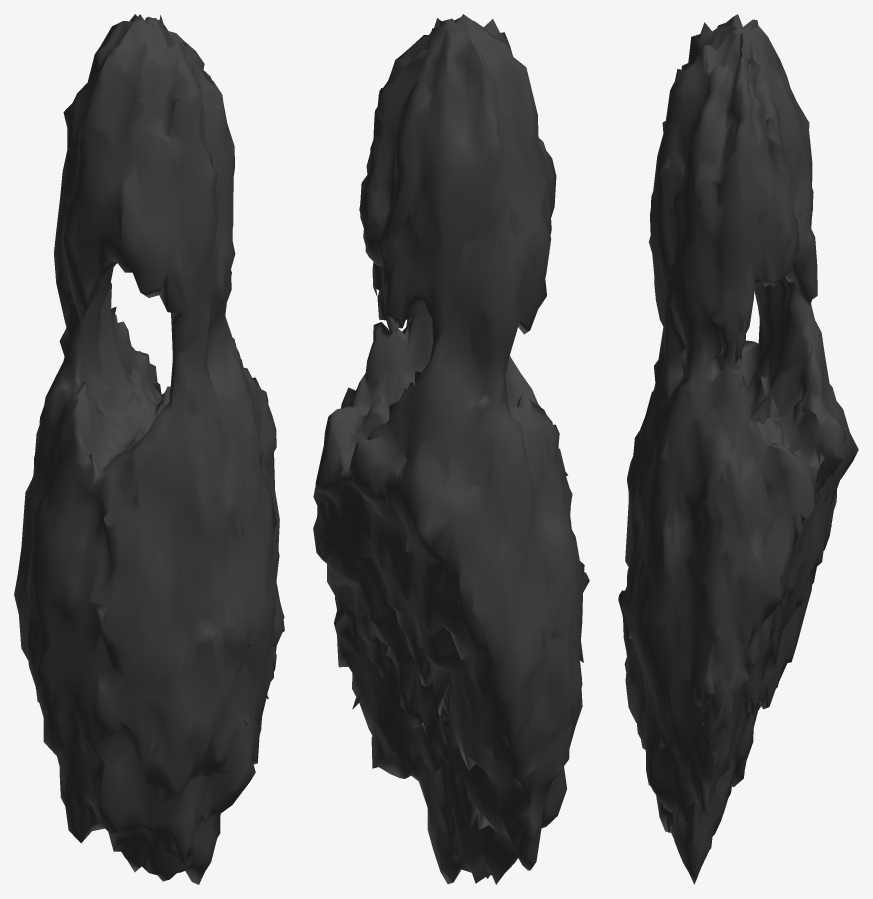
File: shoot-1.glb
3 views of the same model, side by side, from view 1: azimuth 30°, elevation 25°; view 2: azimuth 150°, elevation 25°; view 3: azimuth 270°, elevation 25° (orthographic). The views are drawn at different scales.
Parts seen in each view (by area): view 1: geometry_0; view 2: geometry_0; view 3: geometry_0.
Part boxes in pixels (x1=…): geometry_0: x1=14, y1=14, x2=284, y2=884; geometry_0: x1=313, y1=14, x2=589, y2=884; geometry_0: x1=618, y1=14, x2=858, y2=884.
Size of the model in its own units: 0.2874 by 1 by 0.2556.
1 material, 1 textured.
